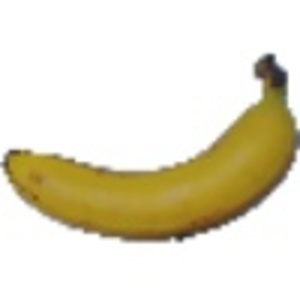banana: (3, 53, 297, 248)
